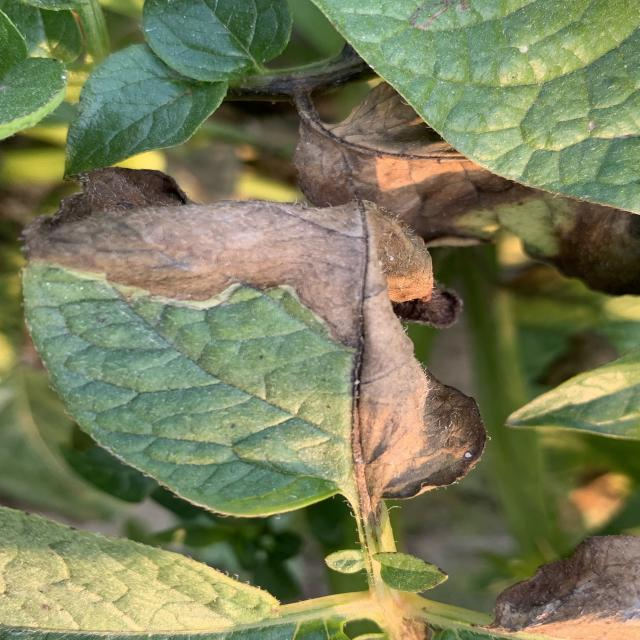lateblight: (27, 201, 485, 512), (293, 92, 542, 230), (322, 82, 463, 158)
